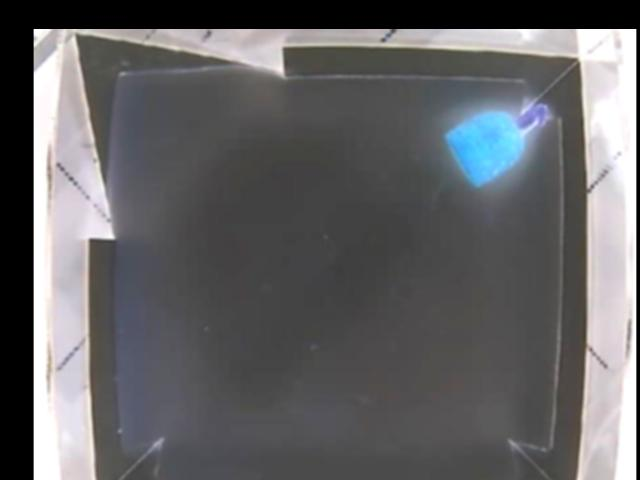Carrot: (447, 99, 552, 190)
